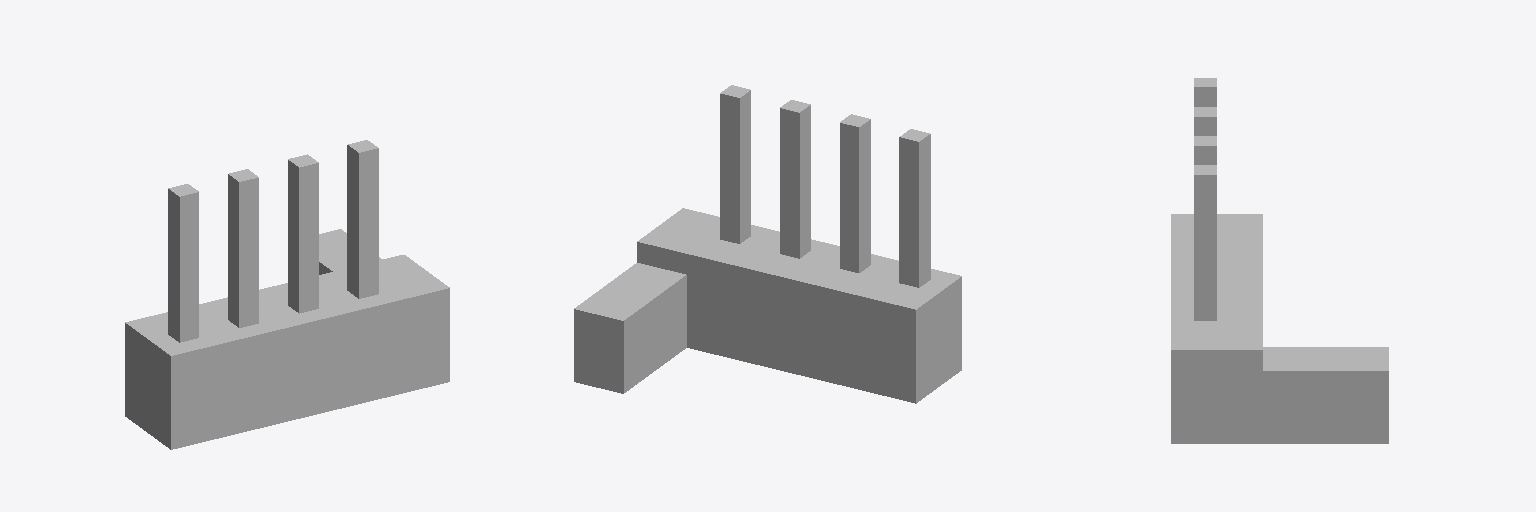
Rendered from Factory.obj.
3 renders of one model, left to right at view 1: azimuth 30°, elevation 25°; view 2: azimuth 150°, elevation 25°; view 3: azimuth 270°, elevation 25°, orthographic.
Parts seen in each view (by area): view 1: Factory; view 2: Factory; view 3: Factory.
Boxes of the visible parts, x1=… form: Factory: x1=125, y1=140, x2=449, y2=449; Factory: x1=574, y1=85, x2=961, y2=403; Factory: x1=1171, y1=78, x2=1388, y2=443.
Bounding box in the file's own units: 2.8 × 2.3 × 1.9.